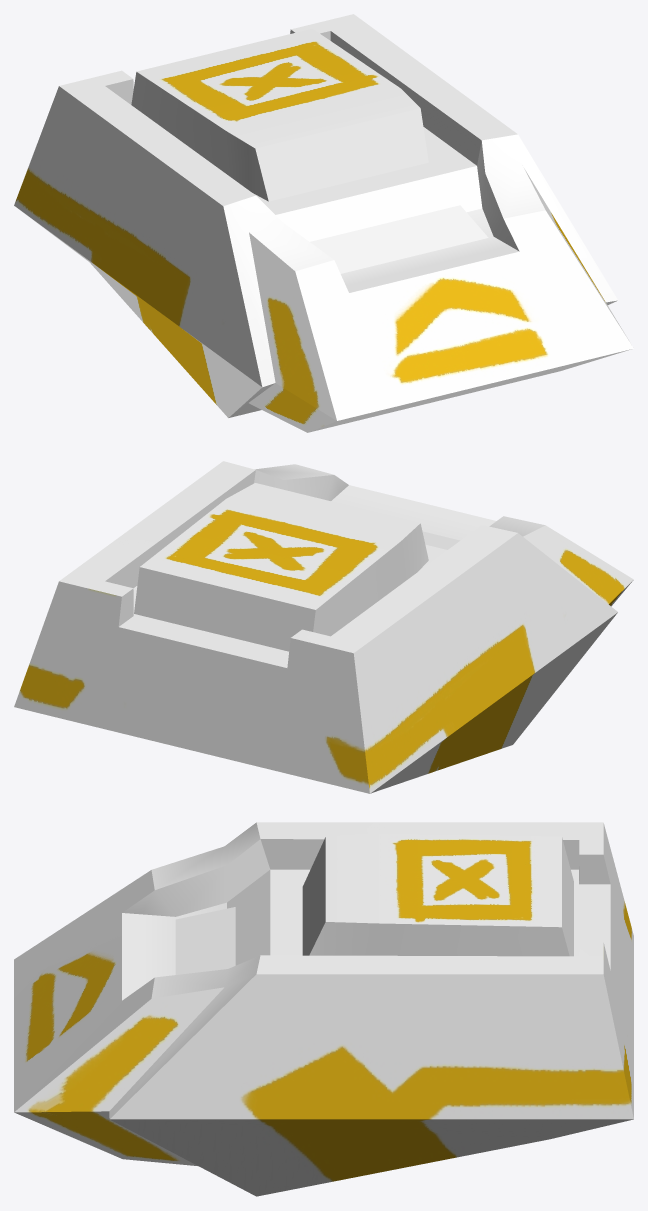
The model's file is makeMeWalk.obj.
3 renders of one model, top to bottom at view 1: azimuth 30°, elevation 25°; view 2: azimuth 150°, elevation 25°; view 3: azimuth 270°, elevation 25°, orthographic. The views are drawn at different scales.
Parts seen in each view (by area): view 1: Default; view 2: Default; view 3: Default.
Boxes of the visible parts, <box> form: Default: <box>14,14,633,432</box>; Default: <box>14,461,633,793</box>; Default: <box>14,822,633,1196</box>.
Bounding box in the file's own units: 0.8562 × 0.5331 × 1.22.
